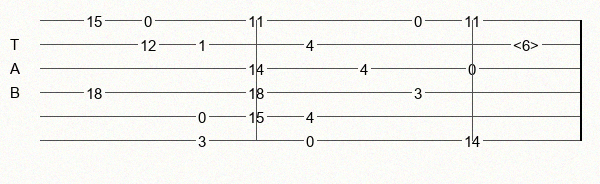0: (144, 13, 156, 28), (198, 109, 210, 124), (306, 133, 318, 148), (414, 13, 426, 28), (468, 61, 480, 76)
1: (198, 37, 210, 52)
11: (248, 13, 268, 28), (464, 13, 484, 28)
12: (140, 37, 160, 52)
14: (248, 61, 268, 76), (464, 133, 484, 148)
15: (86, 13, 106, 28), (248, 109, 268, 124)
18: (86, 85, 106, 100), (248, 85, 268, 100)
3: (198, 133, 210, 148), (414, 85, 426, 100)
4: (306, 37, 318, 52), (306, 109, 318, 124), (360, 61, 372, 76)
harmonic: (513, 37, 543, 52)
